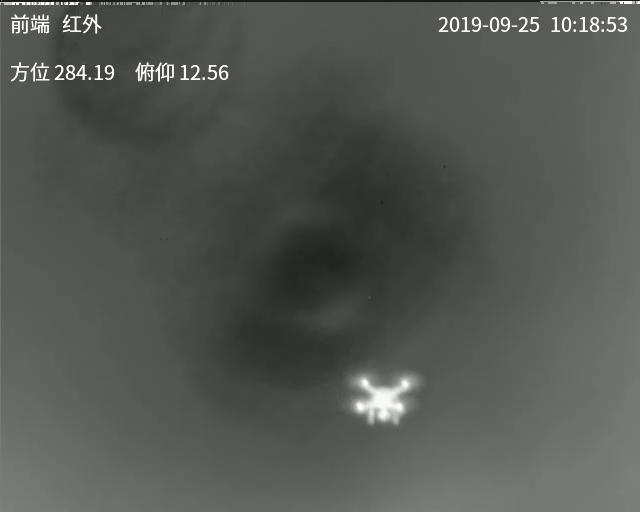uav: (344, 370, 422, 429)
